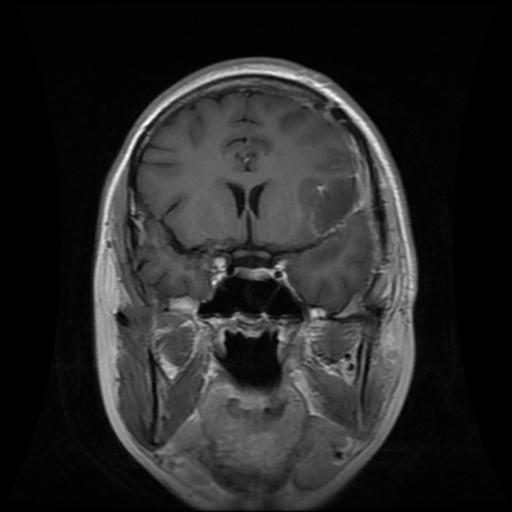Gliomia_tumour: (295, 175, 354, 234)
